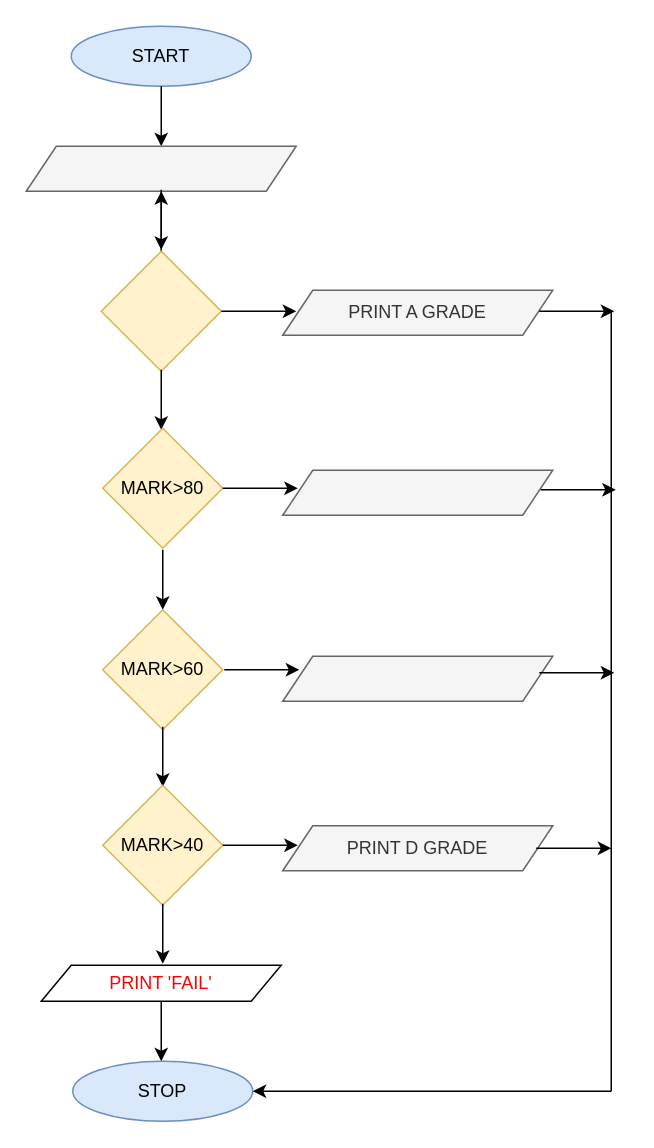
Some shapes in this 654 by 1148 pixel diagram are drawn without their labels. The centre of each missing label's shape, as x and y in pixels:
"INPUT 'MARKS'" belongs at point (160, 168).
"MARK>90" belongs at point (160, 310).
"PRINT B GRADE" belongs at point (417, 492).
"PRINT C GRADE" belongs at point (417, 678).
